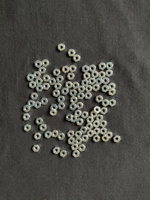nut: (58, 43, 66, 52), (73, 54, 81, 62), (106, 62, 114, 70), (82, 65, 90, 73), (89, 65, 97, 73), (65, 81, 73, 89), (85, 85, 93, 93), (102, 85, 110, 93), (23, 105, 31, 113), (96, 95, 104, 103), (102, 99, 110, 107), (58, 133, 66, 141), (100, 120, 108, 128), (93, 135, 101, 143), (68, 49, 76, 56), (35, 60, 42, 68), (42, 59, 49, 67), (99, 63, 107, 70), (53, 69, 61, 76), (62, 66, 70, 73), (70, 65, 77, 73), (67, 73, 75, 80), (34, 71, 41, 79), (27, 74, 35, 81), (84, 72, 91, 80), (99, 71, 106, 79), (56, 76, 64, 83), (43, 75, 51, 82), (35, 78, 43, 85), (29, 81, 36, 89), (36, 85, 44, 92), (54, 83, 62, 90), (72, 82, 80, 89), (96, 78, 103, 86), (103, 77, 110, 85), (78, 86, 86, 93), (93, 84, 100, 92), (85, 93, 93, 100), (31, 93, 39, 100), (58, 103, 66, 110), (34, 101, 41, 109), (28, 100, 35, 108), (23, 114, 31, 121), (70, 103, 77, 111), (77, 102, 84, 110), (110, 99, 117, 107), (101, 107, 108, 115), (96, 115, 104, 122), (82, 111, 89, 119), (76, 119, 84, 126), (36, 118, 44, 125), (40, 124, 47, 132), (24, 124, 31, 132), (34, 133, 42, 140), (45, 131, 52, 139), (52, 130, 59, 138), (53, 147, 60, 155), (60, 150, 67, 158), (67, 131, 75, 138), (80, 127, 88, 134), (75, 131, 83, 138), (100, 128, 108, 135), (102, 135, 110, 142), (94, 128, 101, 136), (87, 131, 95, 138), (75, 138, 83, 145), (71, 144, 79, 151), (39, 67, 46, 74), (92, 71, 99, 78), (106, 70, 113, 77), (49, 78, 56, 85), (43, 83, 50, 90), (82, 80, 89, 87), (89, 78, 96, 85), (109, 89, 116, 96), (62, 88, 69, 95), (70, 90, 77, 97), (78, 93, 85, 100), (53, 90, 60, 97), (58, 96, 65, 103), (50, 109, 57, 116), (41, 98, 48, 105), (71, 97, 78, 104), (94, 107, 101, 114), (91, 111, 98, 118), (75, 110, 82, 117), (66, 114, 73, 121), (71, 116, 78, 123), (87, 117, 94, 124), (33, 145, 40, 152), (68, 138, 75, 145), (93, 121, 100, 128), (114, 136, 121, 143), (106, 132, 113, 139), (82, 135, 89, 142), (79, 145, 86, 152), (73, 151, 80, 158), (86, 124, 94, 130), (109, 83, 116, 89), (50, 105, 58, 110)
